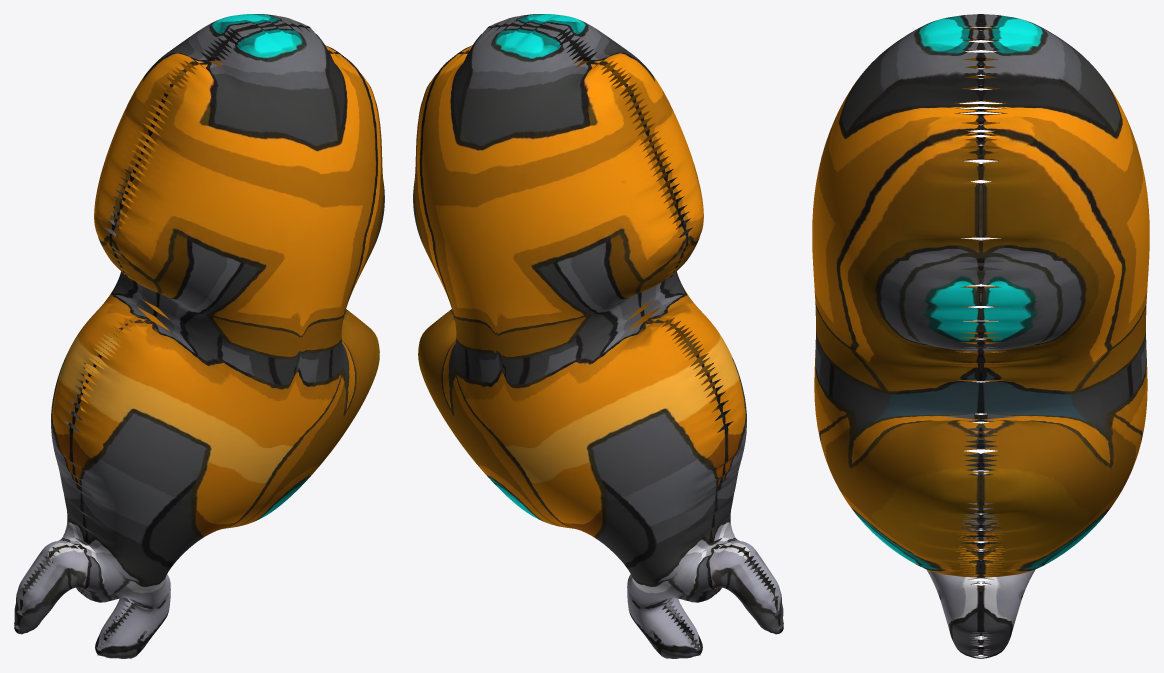
The model's file is gripper_arm.glb.
The picture shows the model from 3 angles, left to right: view 1: azimuth 30°, elevation 25°; view 2: azimuth 150°, elevation 25°; view 3: azimuth 270°, elevation 25°; orthographic projection. The views are drawn at different scales.
Visible parts, largest first — view 1: gripper_arm; view 2: gripper_arm; view 3: gripper_arm.
Boxes of the visible parts, left/top/right/bottom form: gripper_arm: left=14, top=14, right=384, bottom=658; gripper_arm: left=413, top=14, right=783, bottom=658; gripper_arm: left=812, top=14, right=1149, bottom=658.
Size of the model in its own units: 0.9818 by 1.6 by 0.6903.
1 material, 1 textured.
